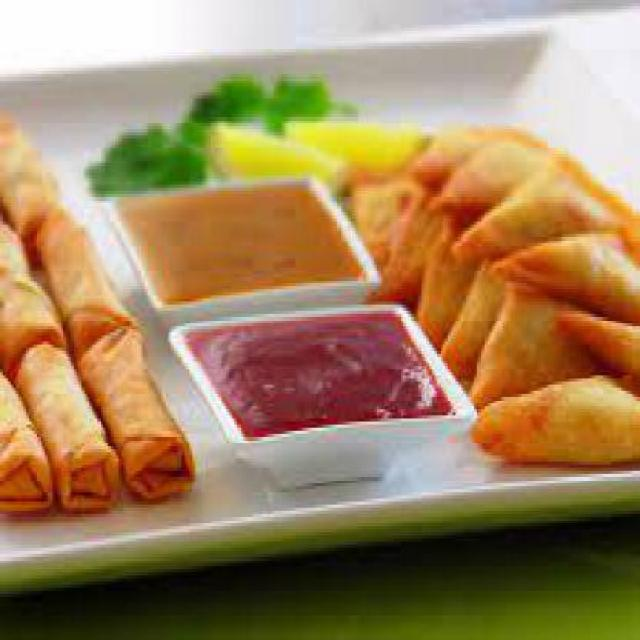samosa: (360, 120, 638, 483)
